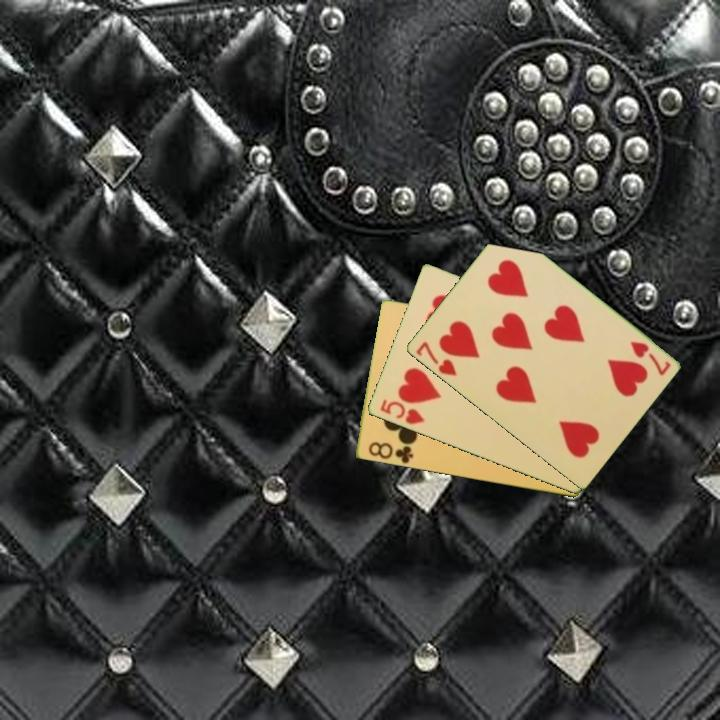5h: (376, 396, 427, 428)
7h: (412, 338, 460, 379), (626, 338, 673, 379)
8c: (365, 439, 416, 466)
